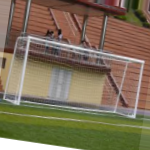goals: (2, 35, 149, 120)
